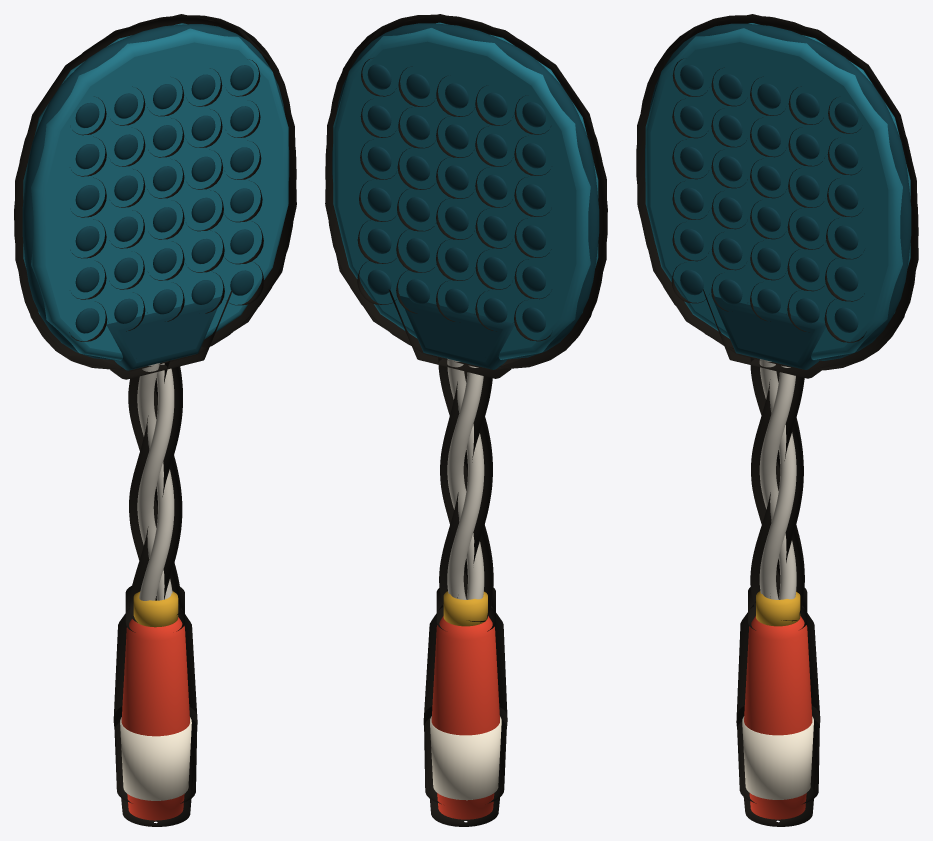
Rendered from flyswatter.glb.
3 views of the same model, side by side, from view 1: azimuth 30°, elevation 25°; view 2: azimuth 150°, elevation 25°; view 3: azimuth 330°, elevation 25° (orthographic).
Visible parts, largest first — view 1: FlySwatter, FlySwatter_outline; view 2: FlySwatter, FlySwatter_outline; view 3: FlySwatter, FlySwatter_outline.
Part boxes in pixels (box(x1,y1,x2,y2)): FlySwatter: box(22, 23, 289, 820); FlySwatter_outline: box(14, 14, 296, 826); FlySwatter: box(332, 22, 599, 819); FlySwatter_outline: box(325, 14, 607, 826); FlySwatter: box(645, 23, 911, 819); FlySwatter_outline: box(636, 14, 918, 826).
Bounding box in the file's own units: 0.933 × 2.57 × 0.2446.
